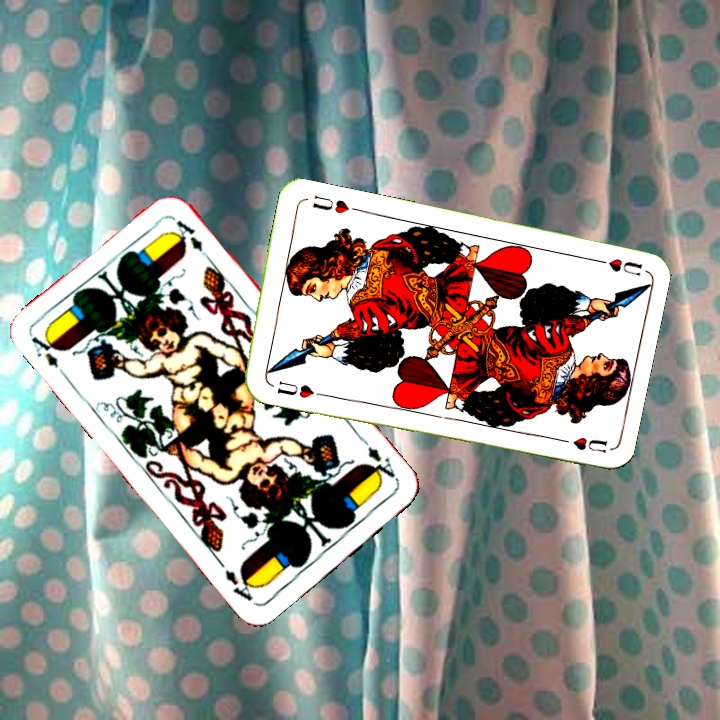EA: (27, 328, 70, 381), (363, 442, 401, 485)
HU: (587, 254, 645, 279), (273, 377, 316, 401)
